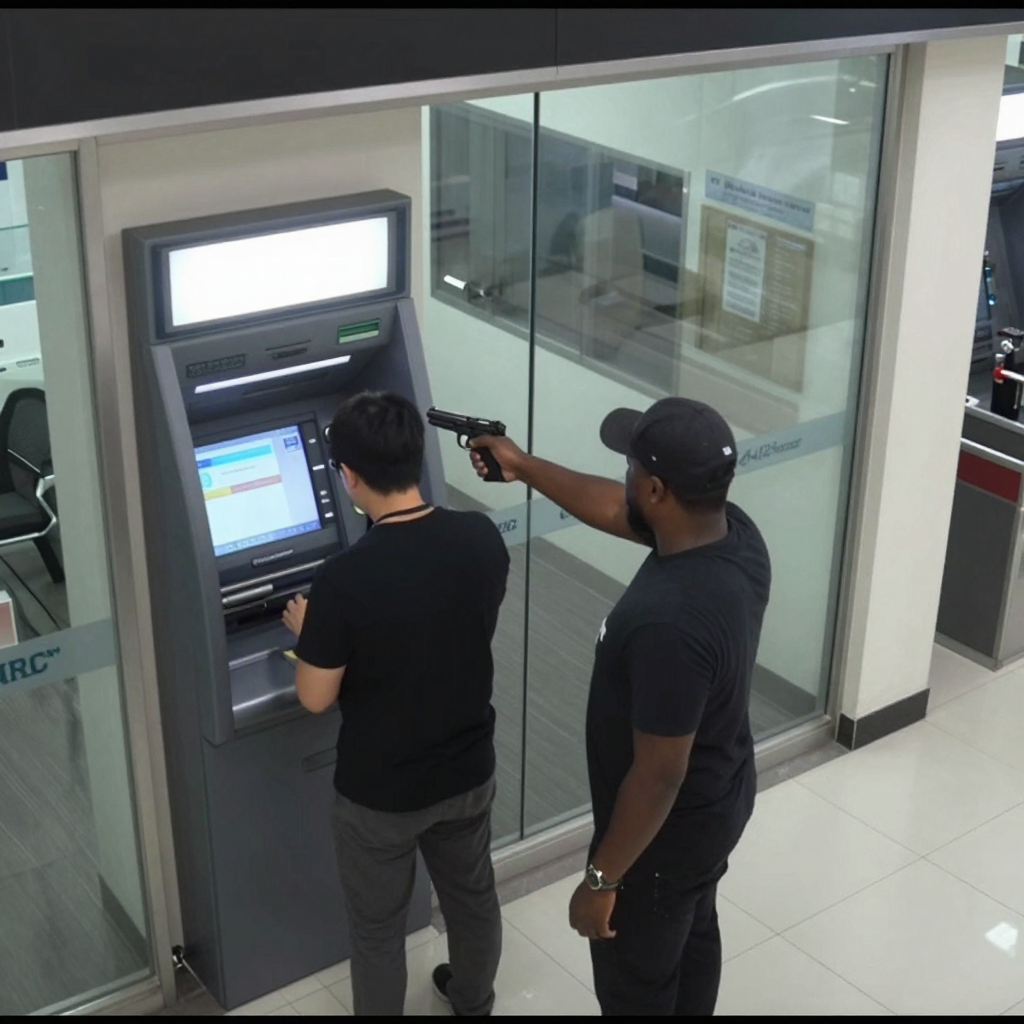Robbery: (464, 397, 773, 1017), (281, 389, 511, 1016)
Shooting: (426, 407, 508, 483)
